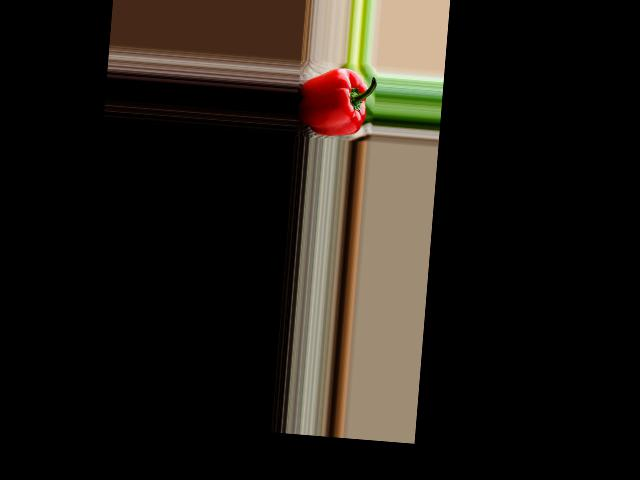bell_pepper: (294, 63, 375, 137)
